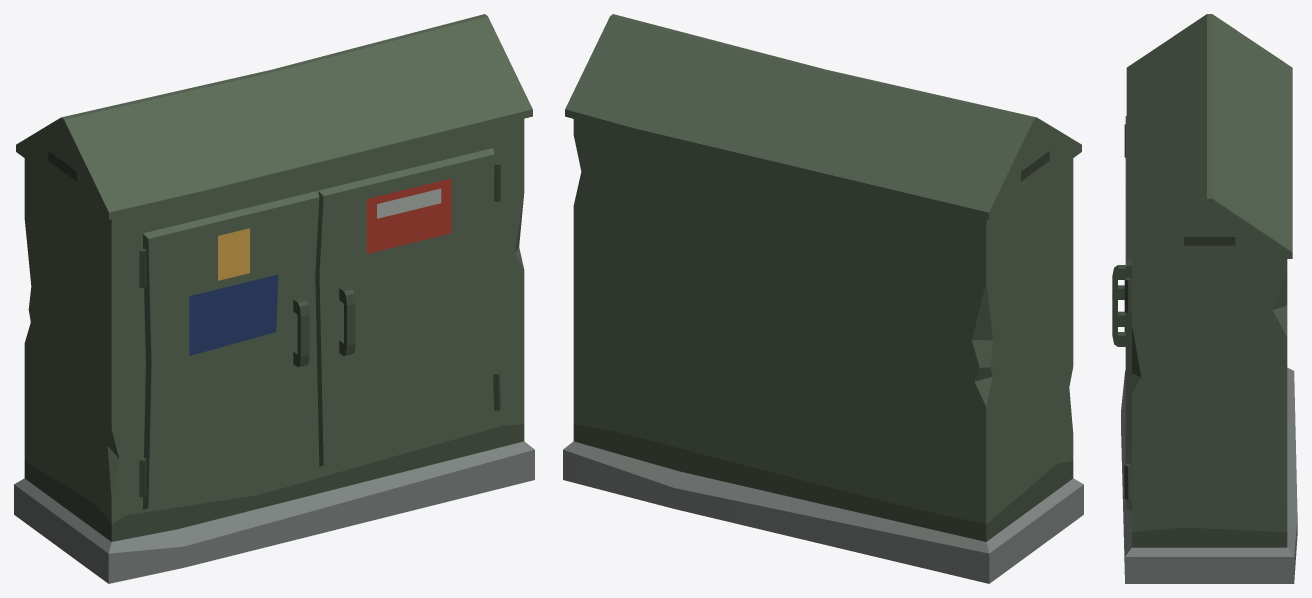
The model's file is SM_Prop_PowerBox_01.obj.
3 views of the same model, side by side, from view 1: azimuth 30°, elevation 25°; view 2: azimuth 150°, elevation 25°; view 3: azimuth 270°, elevation 25° (orthographic). The views are drawn at different scales.
Parts seen in each view (by area): view 1: SM_Prop_PowerBox_01_0; view 2: SM_Prop_PowerBox_01_0; view 3: SM_Prop_PowerBox_01_0.
Part boxes in pixels (x1,y1,x2,y2): SM_Prop_PowerBox_01_0: (14,14,534,583); SM_Prop_PowerBox_01_0: (563,14,1083,583); SM_Prop_PowerBox_01_0: (1112,14,1297,583).
Size of the model in its own units: 1.97 by 1.9 by 0.8304.
Materials: 1 (1 with a texture image).
